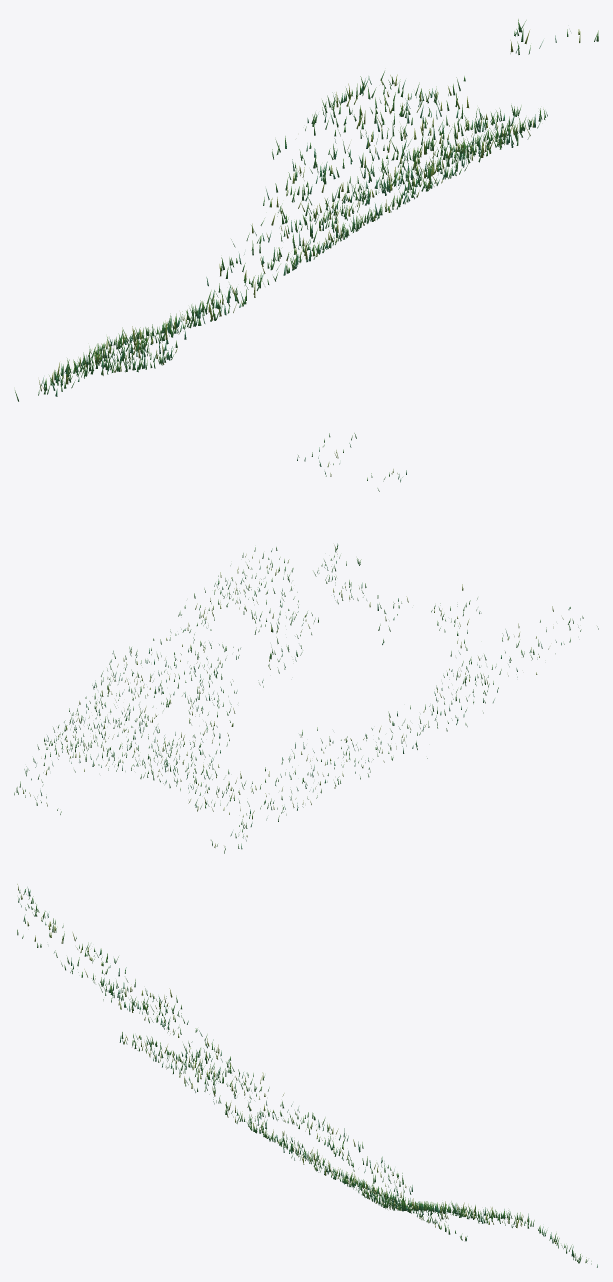
3 renders of one model, top to bottom at view 1: azimuth 30°, elevation 25°; view 2: azimuth 150°, elevation 25°; view 3: azimuth 270°, elevation 25°, orthographic. The views are drawn at different scales.
Visible parts, largest first — view 1: gc_61; view 2: gc_61; view 3: gc_61.
Part boxes in pixels (x1,y1,x2,y2): gc_61: (15, 19, 598, 401); gc_61: (14, 433, 598, 853); gc_61: (17, 884, 597, 1267).
Size of the model in its own units: 16.98 by 12.68 by 17.56.
1 material, 1 textured.
